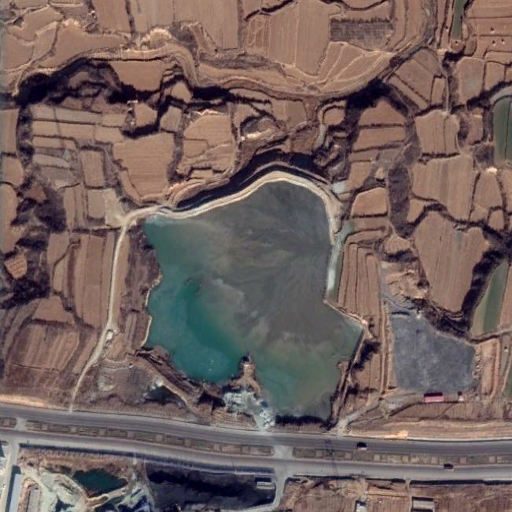tp: (132, 174, 367, 429)
